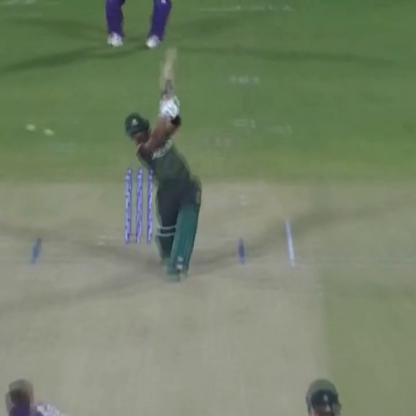ball: (43, 125, 62, 141), (22, 116, 38, 134)
bat: (159, 46, 179, 102)
pitch: (1, 228, 326, 416)
